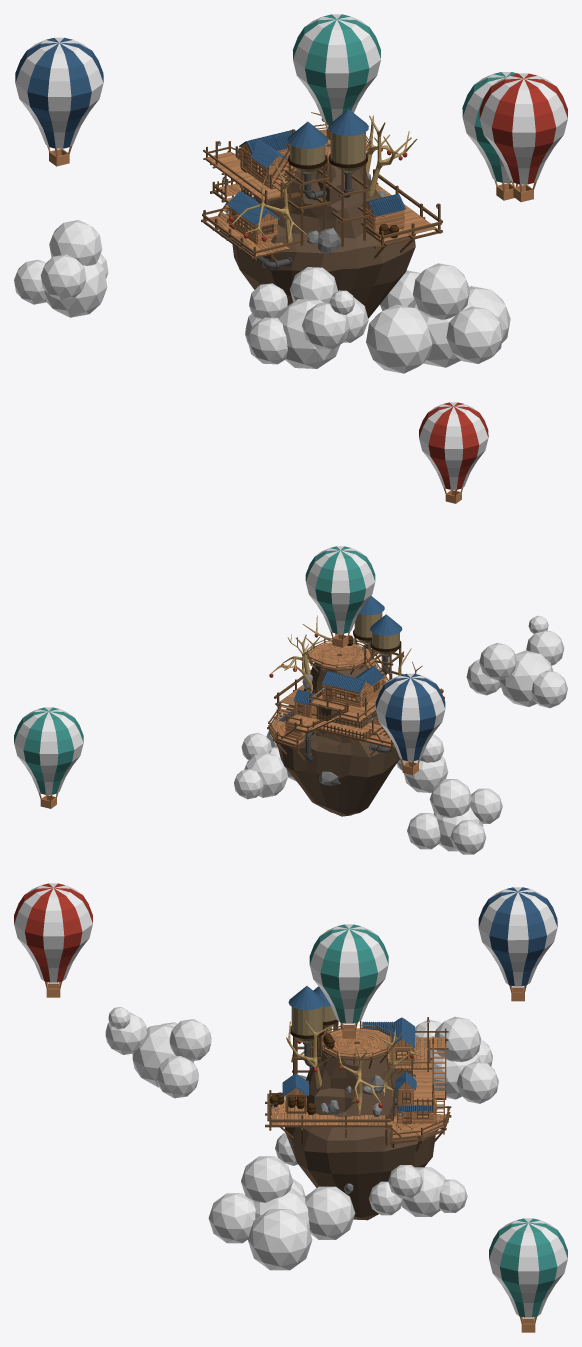
File: Floating_Island_2.fbx
The picture shows the model from 3 angles, top to bottom: view 1: azimuth 30°, elevation 25°; view 2: azimuth 150°, elevation 25°; view 3: azimuth 270°, elevation 25°; orthographic projection. The views are drawn at different scales.
Parts seen in each view (by area): view 1: pulau, balon udara panas.004, balon udara panas.006, balon udara panas.007, Icosphere.019, Icosphere.018, Icosphere.017, Icosphere.028, balon udara panas.005, rumah 2, Cube.316, Icosphere.012 (+23 smaller); view 2: pulau, balon udara panas.004, balon udara panas.007, balon udara panas.006, balon udara panas.005, Cube, rumah 2, Icosphere.028, Icosphere.012, Icosphere.021, Icosphere.030, Icosphere.031 (+12 smaller); view 3: pulau, balon udara panas.004, balon udara panas.007, balon udara panas.006, balon udara panas.005, Icosphere.020, Cube, Cube.316, Icosphere.016, Icosphere.017, Icosphere.018, Icosphere.028 (+17 smaller).
Boxes of the visible parts, <box> form: pulau: <box>232,144,415,318</box>; balon udara panas.004: <box>15,37,103,148</box>; balon udara panas.006: <box>479,73,567,184</box>; balon udara panas.007: <box>292,14,380,124</box>; Icosphere.019: <box>366,304,432,373</box>; Icosphere.018: <box>446,306,503,363</box>; Icosphere.017: <box>413,263,469,319</box>; Icosphere.028: <box>277,299,339,368</box>; balon udara panas.005: <box>462,72,517,182</box>; rumah 2: <box>239,129,295,187</box>; Cube.316: <box>361,169,442,258</box>; Icosphere.012: <box>49,220,102,265</box>; pulau: <box>278,654,400,816</box>; balon udara panas.004: <box>375,673,445,761</box>; balon udara panas.007: <box>305,546,375,633</box>; balon udara panas.006: <box>419,402,488,489</box>; balon udara panas.005: <box>14,707,83,794</box>; Cube: <box>281,642,392,748</box>; rumah 2: <box>322,666,384,707</box>; Icosphere.028: <box>499,650,553,706</box>; Icosphere.012: <box>429,779,472,817</box>; Icosphere.021: <box>244,752,287,797</box>; Icosphere.030: <box>479,642,517,680</box>; Icosphere.031: <box>531,670,567,708</box>; pulau: <box>285,1041,436,1220</box>; balon udara panas.004: <box>478,887,557,986</box>; balon udara panas.007: <box>309,924,388,1023</box>; balon udara panas.006: <box>14,883,92,982</box>; balon udara panas.005: <box>489,1218,567,1317</box>; Icosphere.020: <box>247,1209,312,1270</box>; Cube: <box>322,1017,448,1123</box>; Cube.316: <box>265,1090,401,1145</box>; Icosphere.016: <box>304,1186,355,1239</box>; Icosphere.017: <box>241,1156,292,1202</box>; Icosphere.018: <box>208,1193,255,1243</box>; Icosphere.028: <box>132,1023,193,1087</box>.
Bounding box in the file's own units: 3654 × 2425 × 3503.
